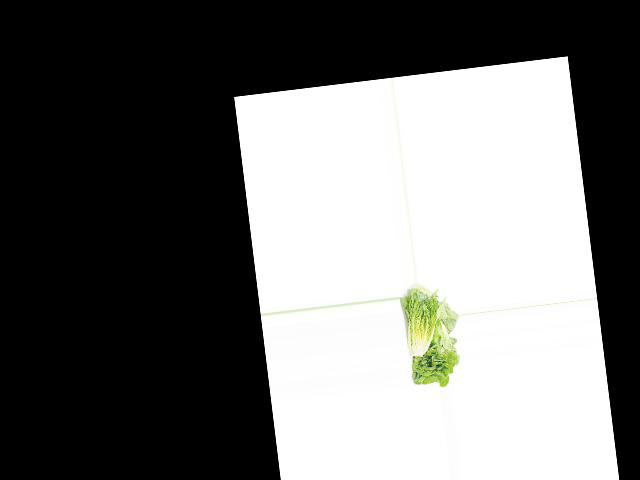lettuce: (402, 321, 462, 389)
